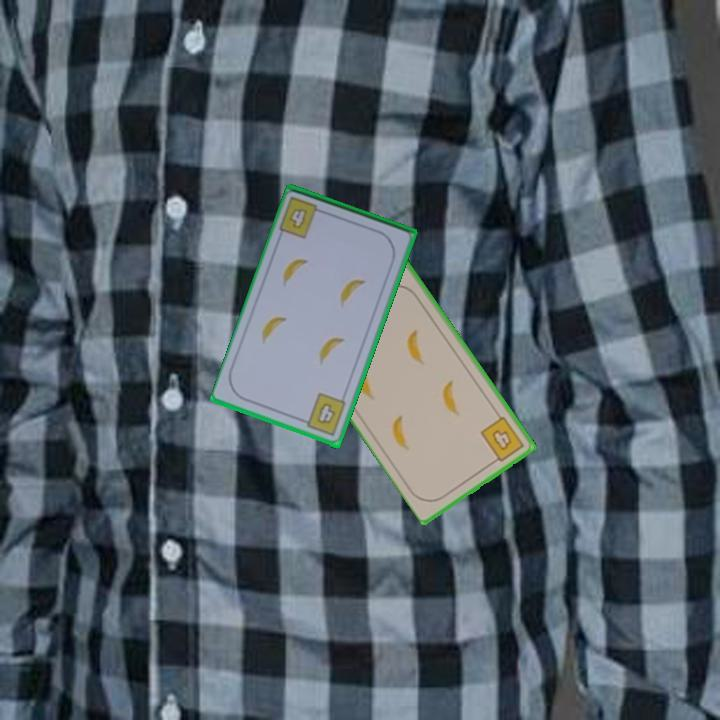4b: (477, 413, 527, 467), (298, 390, 349, 439), (285, 205, 308, 232)
